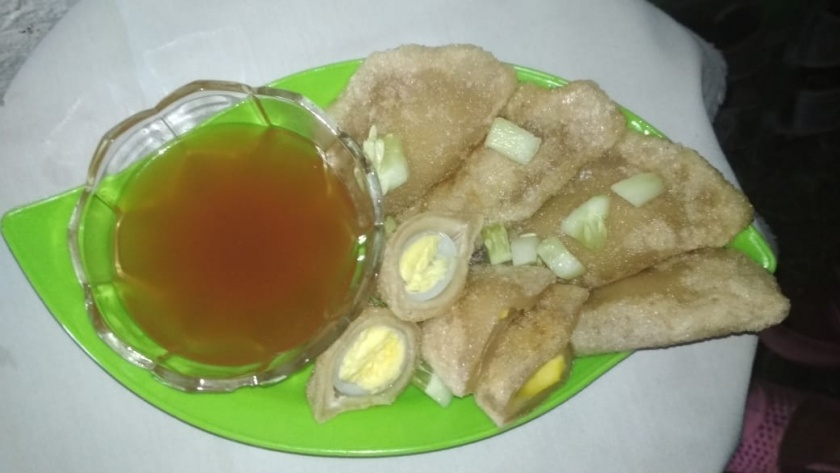pempek: (68, 43, 791, 427)
